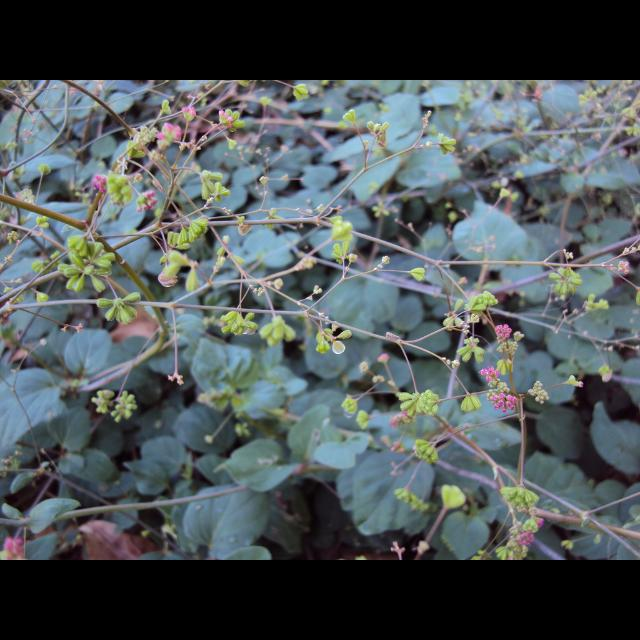Flower: (0, 536, 24, 560), (491, 392, 519, 412), (480, 366, 510, 384), (136, 190, 160, 210), (156, 123, 184, 139), (390, 410, 410, 428), (517, 532, 537, 546), (494, 324, 512, 338), (220, 110, 232, 130), (93, 175, 107, 191), (182, 106, 198, 120), (620, 260, 630, 278), (536, 518, 546, 526), (377, 355, 391, 359)
